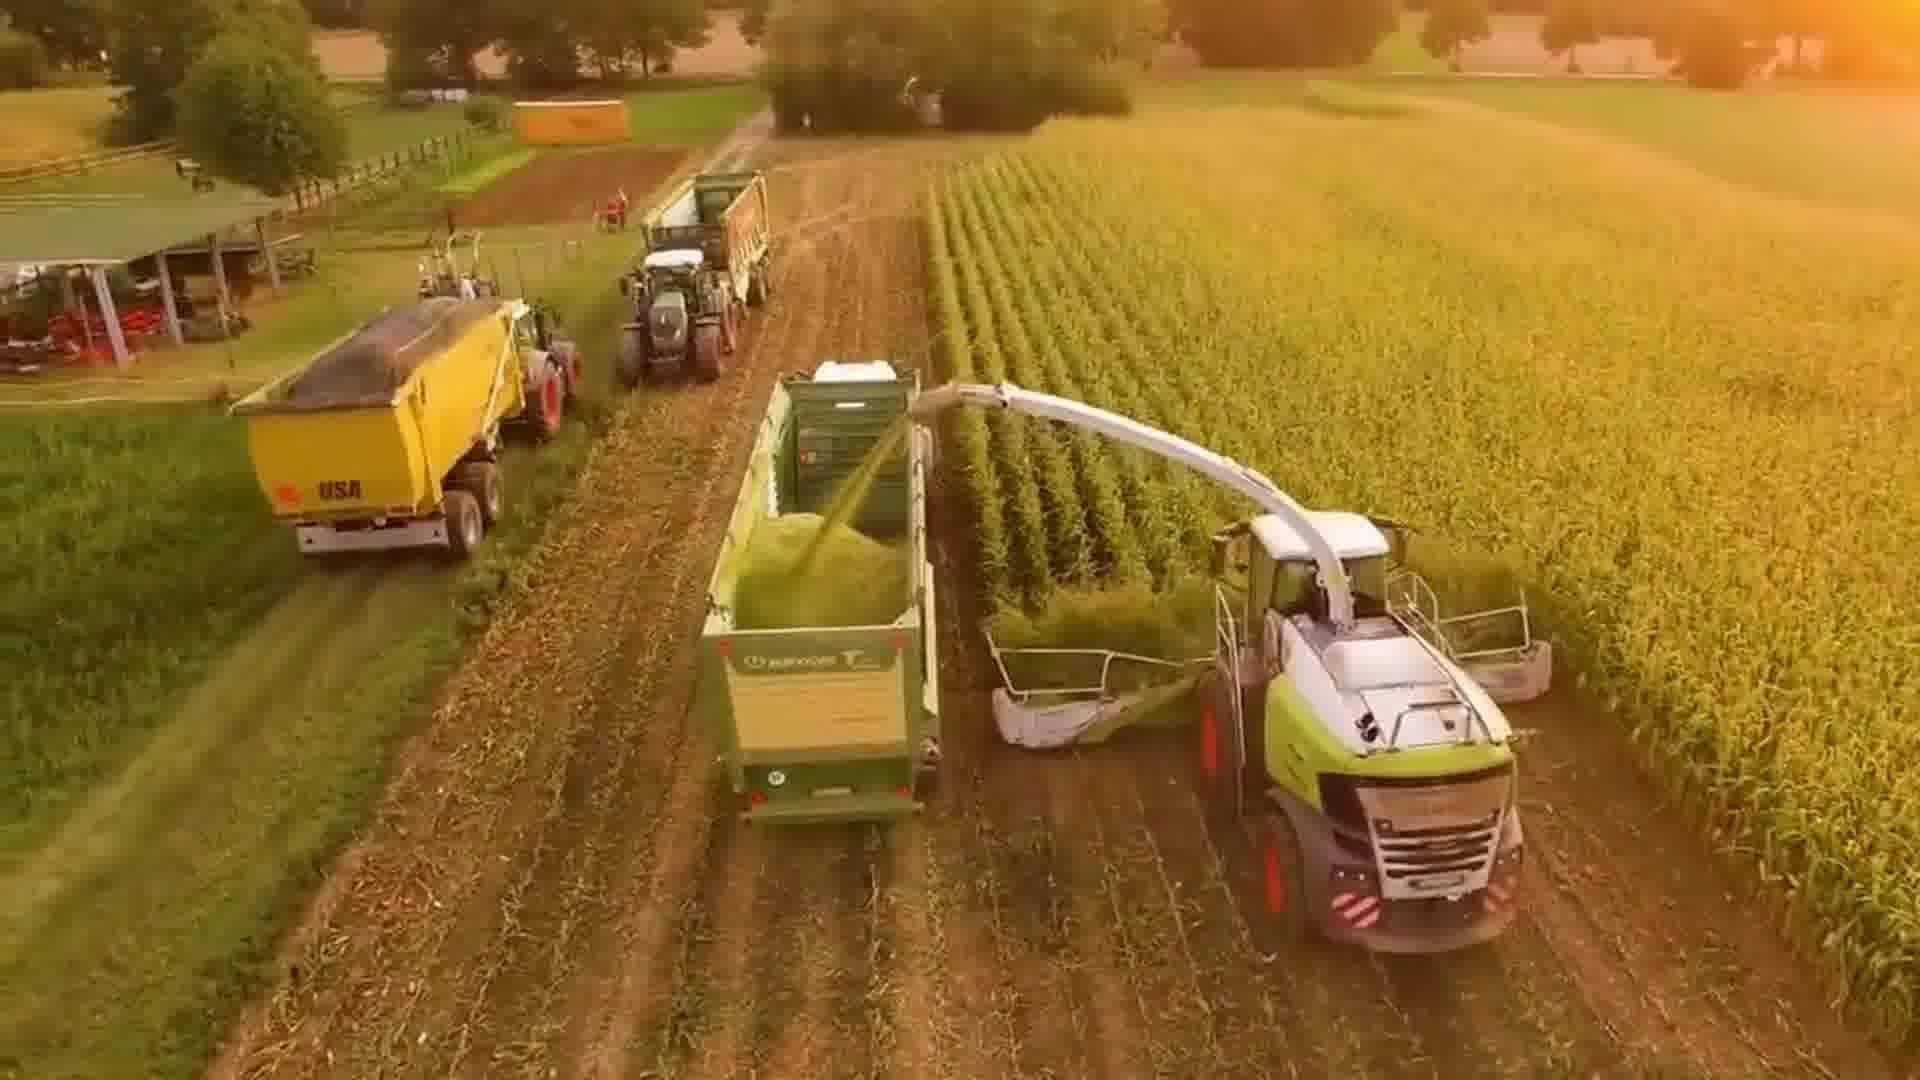combine harvester: (907, 365, 1565, 968)
tractor: (612, 248, 742, 381), (500, 294, 587, 444), (793, 355, 920, 394)
trailer: (692, 371, 944, 823), (219, 289, 531, 570), (637, 166, 781, 303)
